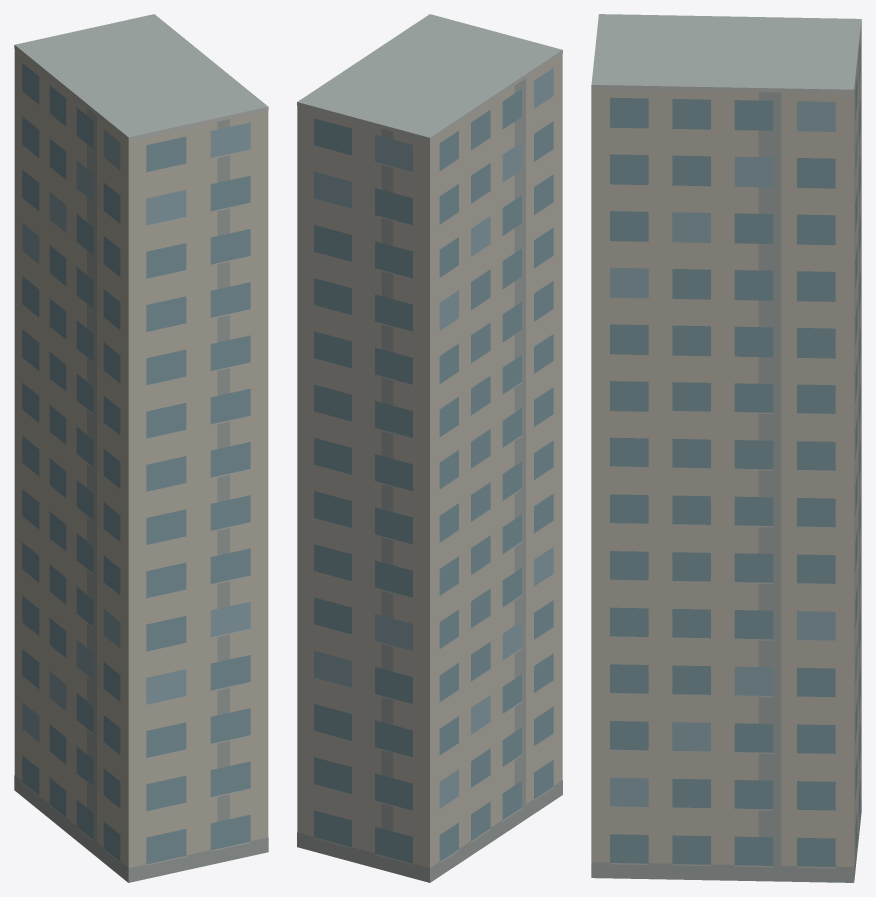
Rendered from residential-7938a7e6-80e6-41ec-8646-5f4b352af3d0.glb.
3 renders of one model, left to right at view 1: azimuth 30°, elevation 25°; view 2: azimuth 150°, elevation 25°; view 3: azimuth 270°, elevation 25°, orthographic. The views are drawn at different scales.
Visible parts, largest first — view 1: residential-7938a7e6-80e6-41ec-8646-5f4b352af3d0.tmp; view 2: residential-7938a7e6-80e6-41ec-8646-5f4b352af3d0.tmp; view 3: residential-7938a7e6-80e6-41ec-8646-5f4b352af3d0.tmp.
Boxes of the visible parts, x1,y1,x2,y2 form: residential-7938a7e6-80e6-41ec-8646-5f4b352af3d0.tmp: (14, 14, 268, 882); residential-7938a7e6-80e6-41ec-8646-5f4b352af3d0.tmp: (297, 14, 562, 882); residential-7938a7e6-80e6-41ec-8646-5f4b352af3d0.tmp: (591, 14, 861, 882).
Bounding box in the file's own units: 9.43 × 46 × 14.21.
